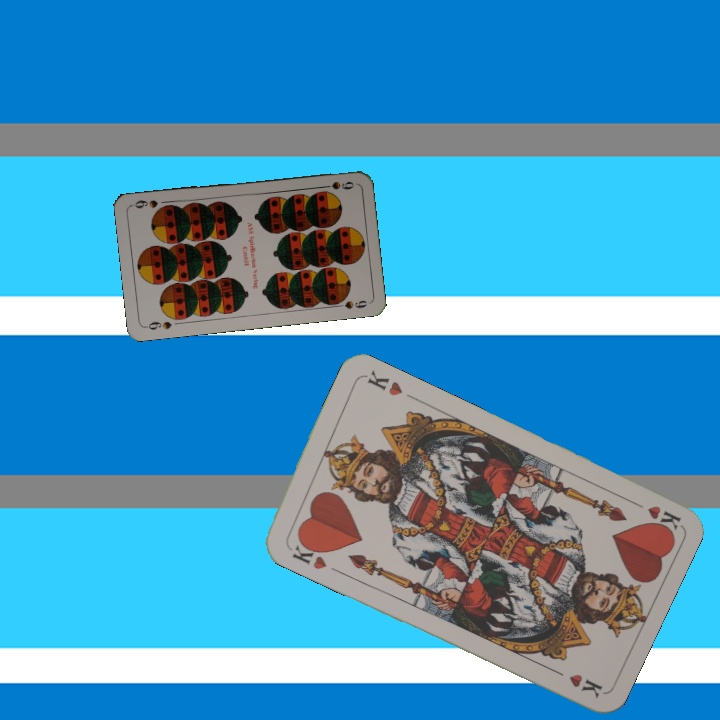HK: (625, 495, 683, 536), (283, 535, 329, 572)
S9: (316, 177, 357, 192), (142, 317, 174, 332)
